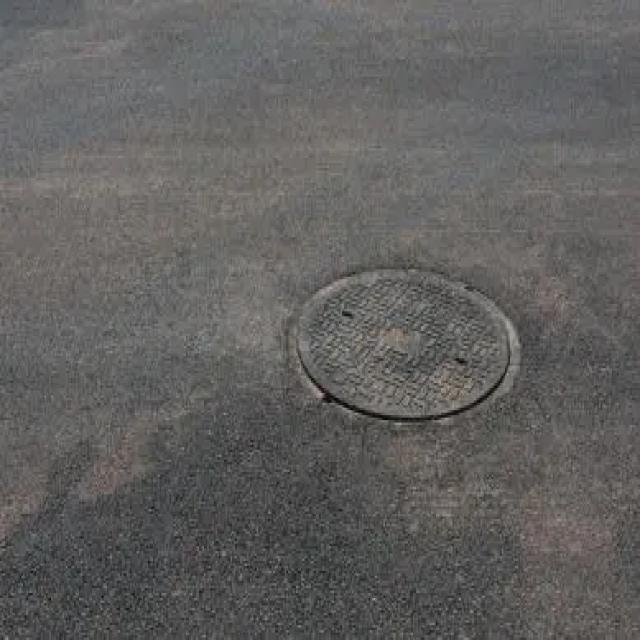manhole: (296, 270, 519, 420)
